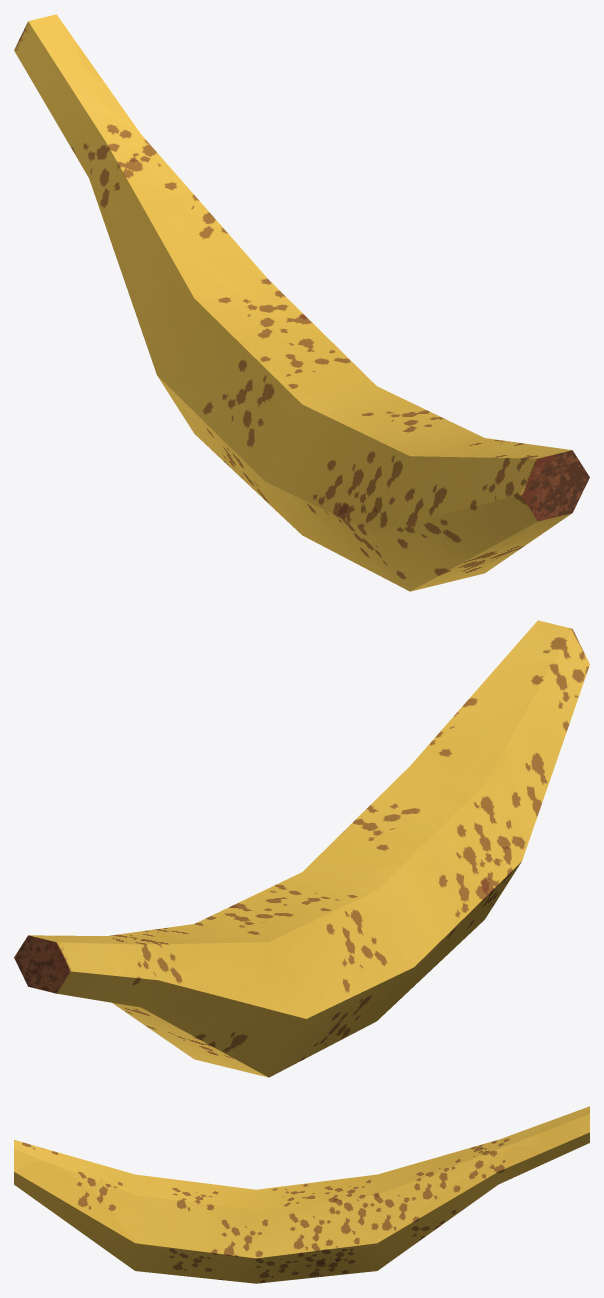
Rendered from Bennett_Banana 1.fbx.
3 renders of one model, top to bottom at view 1: azimuth 30°, elevation 25°; view 2: azimuth 150°, elevation 25°; view 3: azimuth 270°, elevation 25°, orthographic. The views are drawn at different scales.
Visible parts, largest first — view 1: Banana; view 2: Banana; view 3: Banana.
Boxes of the visible parts, x1,y1,x2,y2 form: Banana: (14, 14, 589, 591); Banana: (14, 620, 589, 1077); Banana: (14, 1106, 589, 1283).
Bounding box in the file's own units: 0.1 × 0.186 × 0.5944.
